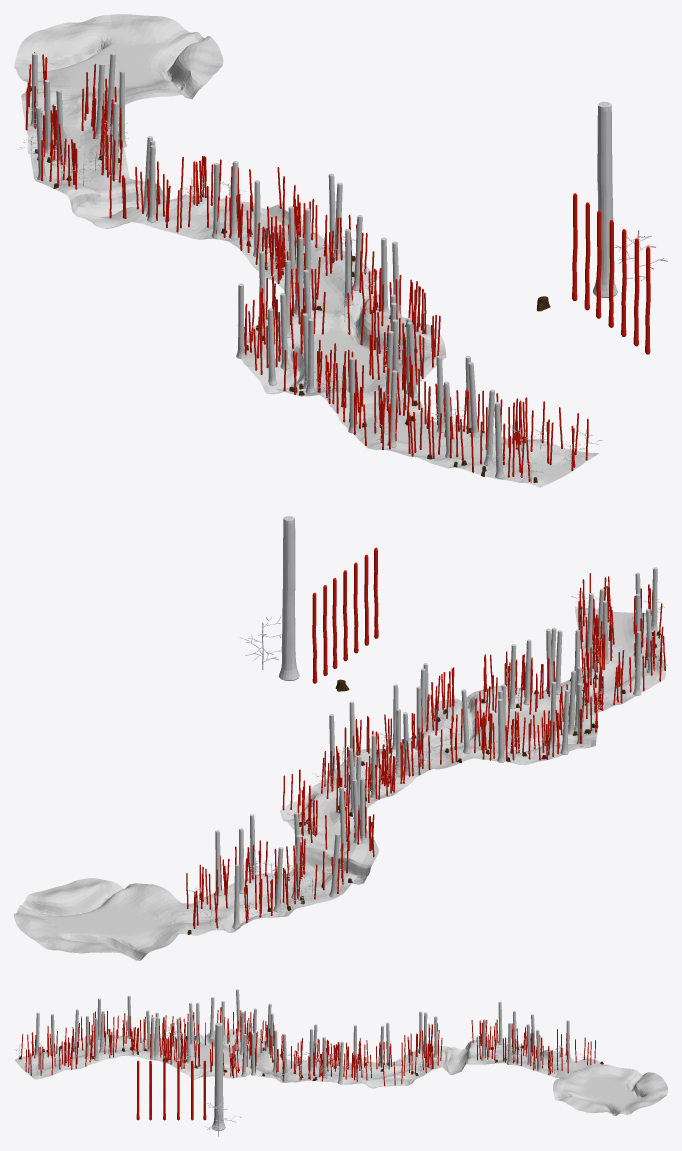
The model's file is MapScene.glb.
3 views of the same model, one above another, from view 1: azimuth 30°, elevation 25°; view 2: azimuth 150°, elevation 25°; view 3: azimuth 270°, elevation 25° (orthographic). The views are drawn at different scales.
Parts seen in each view (by area): view 1: Retopo_Circle.010, Retopo_GROS TRONC.001; view 2: Retopo_Circle.010, Retopo_GROS TRONC.001; view 3: Retopo_Circle.010, Retopo_GROS TRONC.001.
Part boxes in pixels (<box>): Retopo_Circle.010: <box>14,14,598,487</box>; Retopo_GROS TRONC.001: <box>593,101,617,297</box>; Retopo_Circle.010: <box>14,606,665,960</box>; Retopo_GROS TRONC.001: <box>278,516,299,680</box>; Retopo_Circle.010: <box>14,1028,667,1115</box>; Retopo_GROS TRONC.001: <box>212,1022,225,1130</box>.
Bounding box in the file's own units: 118 × 56.72 × 295.
